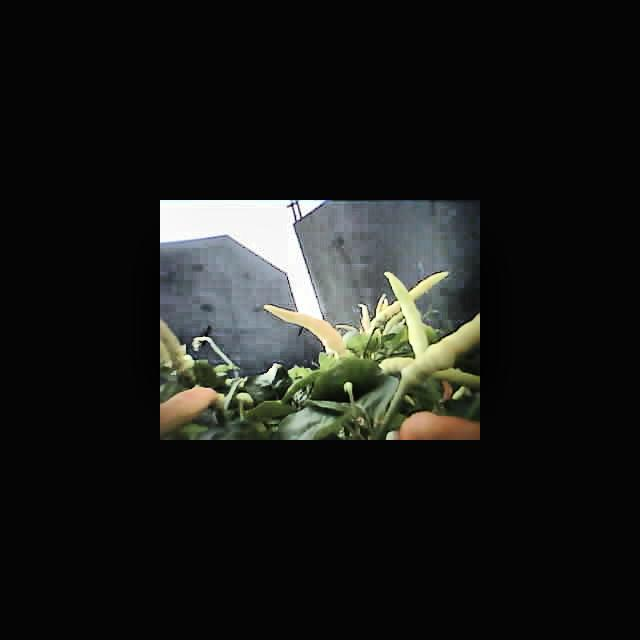Cabai: (385, 408, 480, 440), (161, 386, 220, 433)
